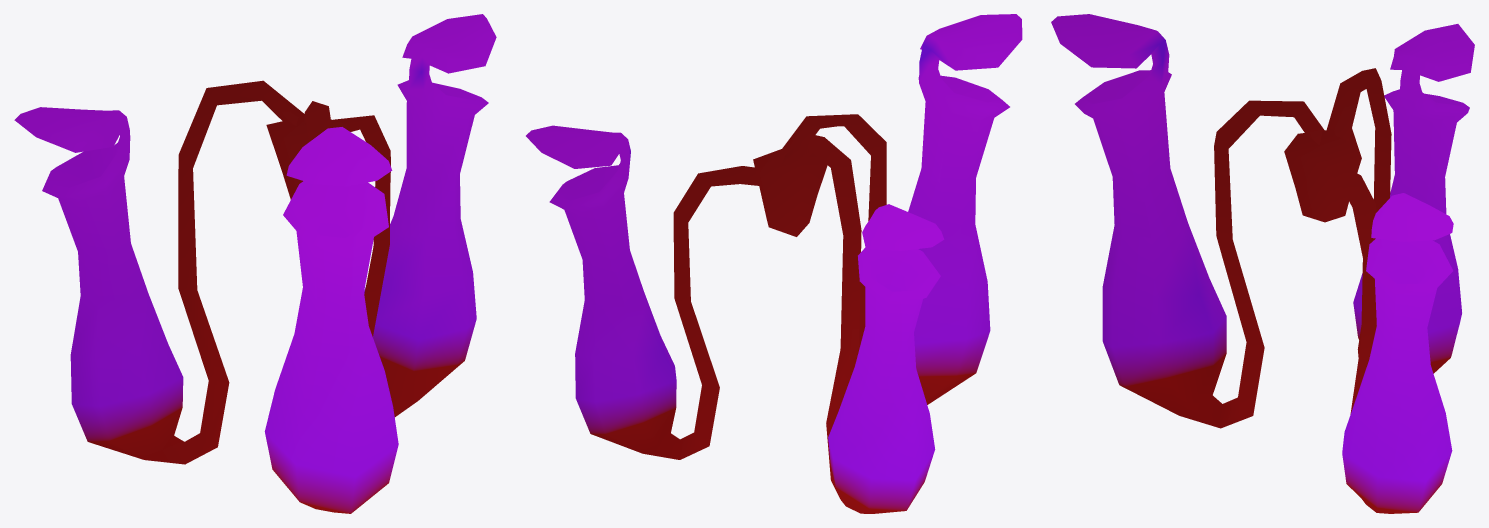
Rendered from SM_Env_Flower_Pitcher_02.gltf.
The picture shows the model from 3 angles, left to right: view 1: azimuth 30°, elevation 25°; view 2: azimuth 150°, elevation 25°; view 3: azimuth 270°, elevation 25°; orthographic projection. The views are drawn at different scales.
Parts seen in each view (by area): view 1: SM_Env_Flower_Pitcher_02_LOD0; view 2: SM_Env_Flower_Pitcher_02_LOD0; view 3: SM_Env_Flower_Pitcher_02_LOD0.
Boxes of the visible parts, x1=… form: SM_Env_Flower_Pitcher_02_LOD0: x1=14, y1=14, x2=496, y2=513; SM_Env_Flower_Pitcher_02_LOD0: x1=526, y1=14, x2=1022, y2=513; SM_Env_Flower_Pitcher_02_LOD0: x1=1051, y1=14, x2=1474, y2=513.
Bounding box in the file's own units: 1.79 × 1.55 × 1.51.
